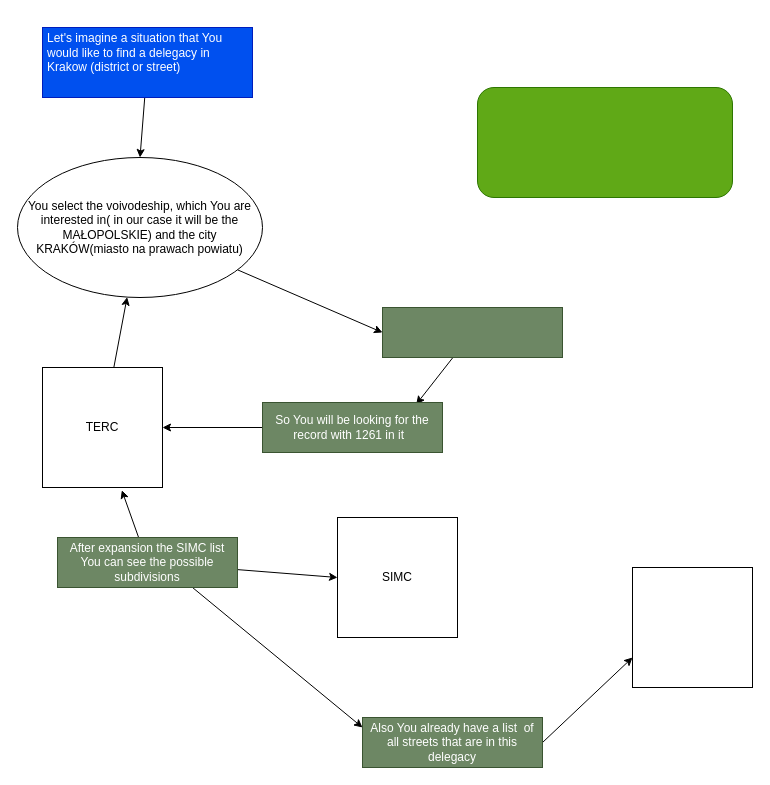
Image size: 770x785. Some labels were removed from this diagram. The shapes that lost their labels are listed below. From the top down, each one's centre as x and y in pixels, then its label:
At point 604,142: "How the reviewing in Teryt works? Here it is a simple pattern.".
At point 472,332: "Id of MAŁOPOLSKIE voivodeship is 2 and id of KRAKÓW city is 61".
At point 692,627: "ULIC".
